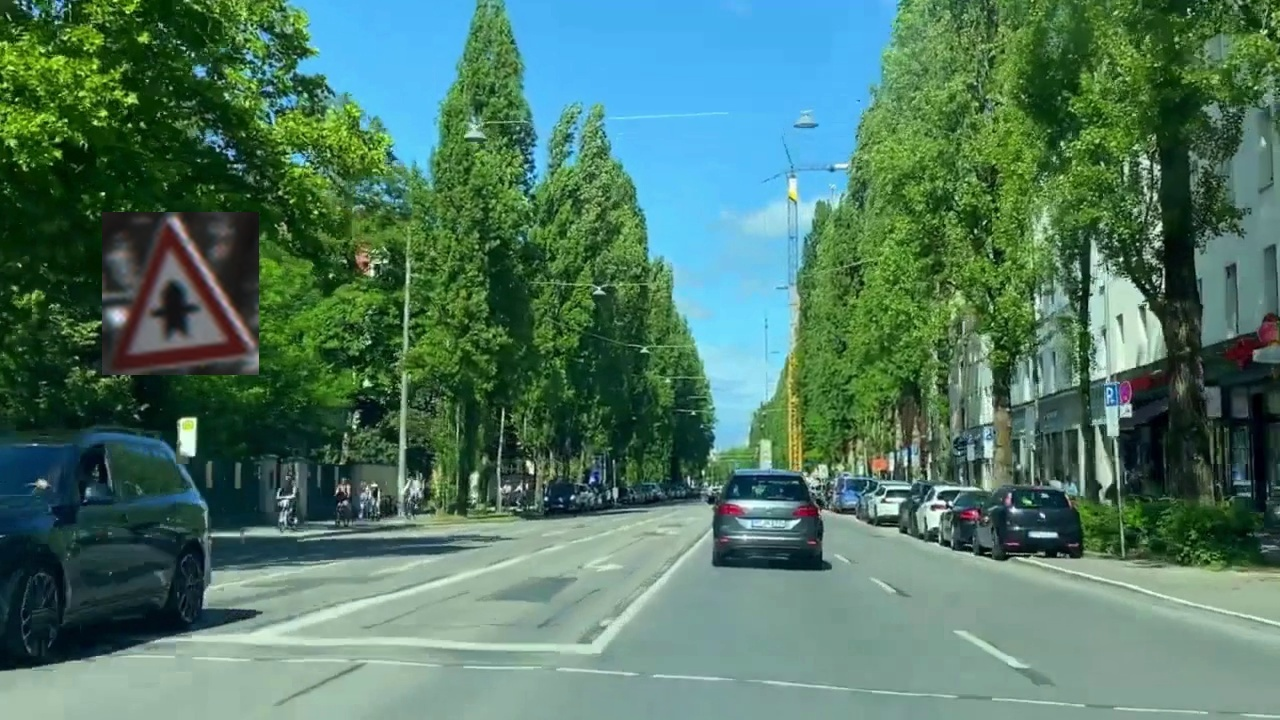Right-of-way: (102, 212, 259, 375)
